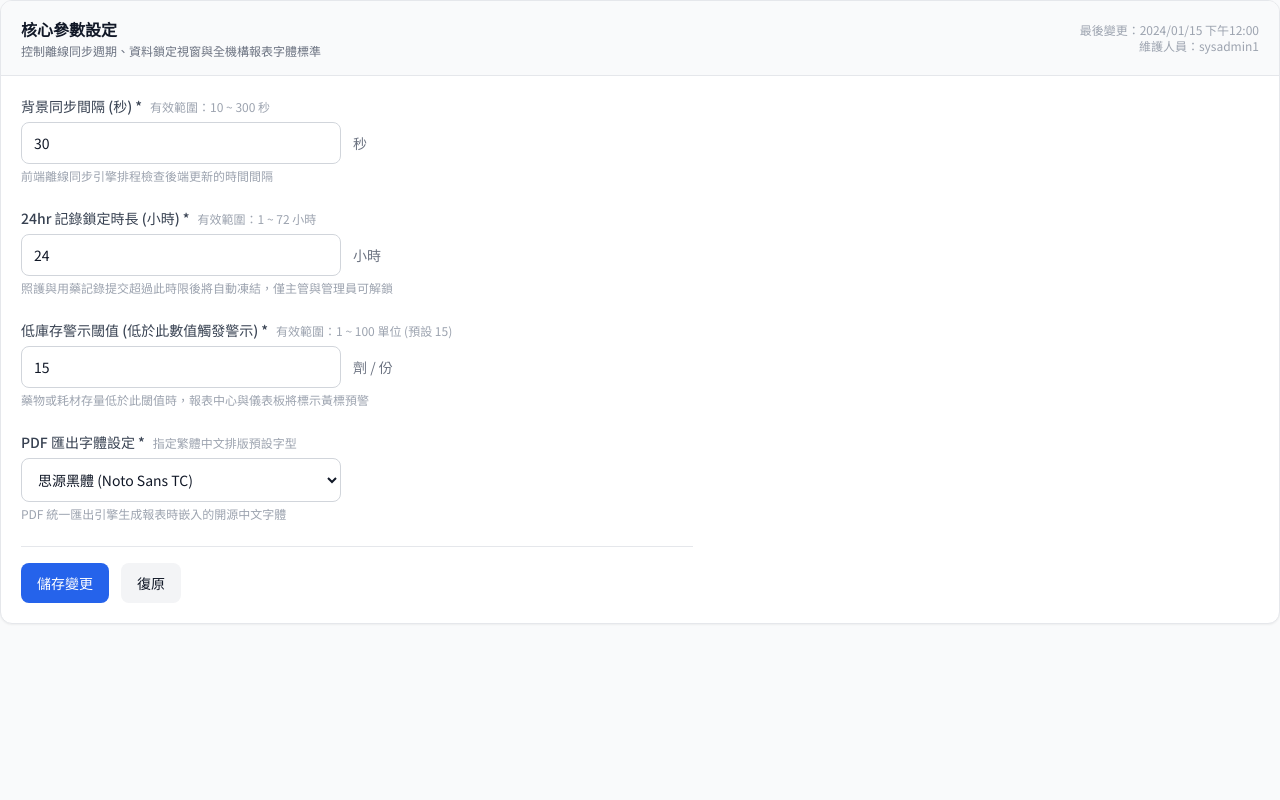
Test: System Settings Form View (Feature F11) › submits valid form to PATCH /api/v1/system/settings and displays success alert
This screenshot has width=1280, height=800.
Replace the text in the number field named "背景同步間隔" with "60": x=181, y=143 x1=21 y1=122 x2=341 y2=164
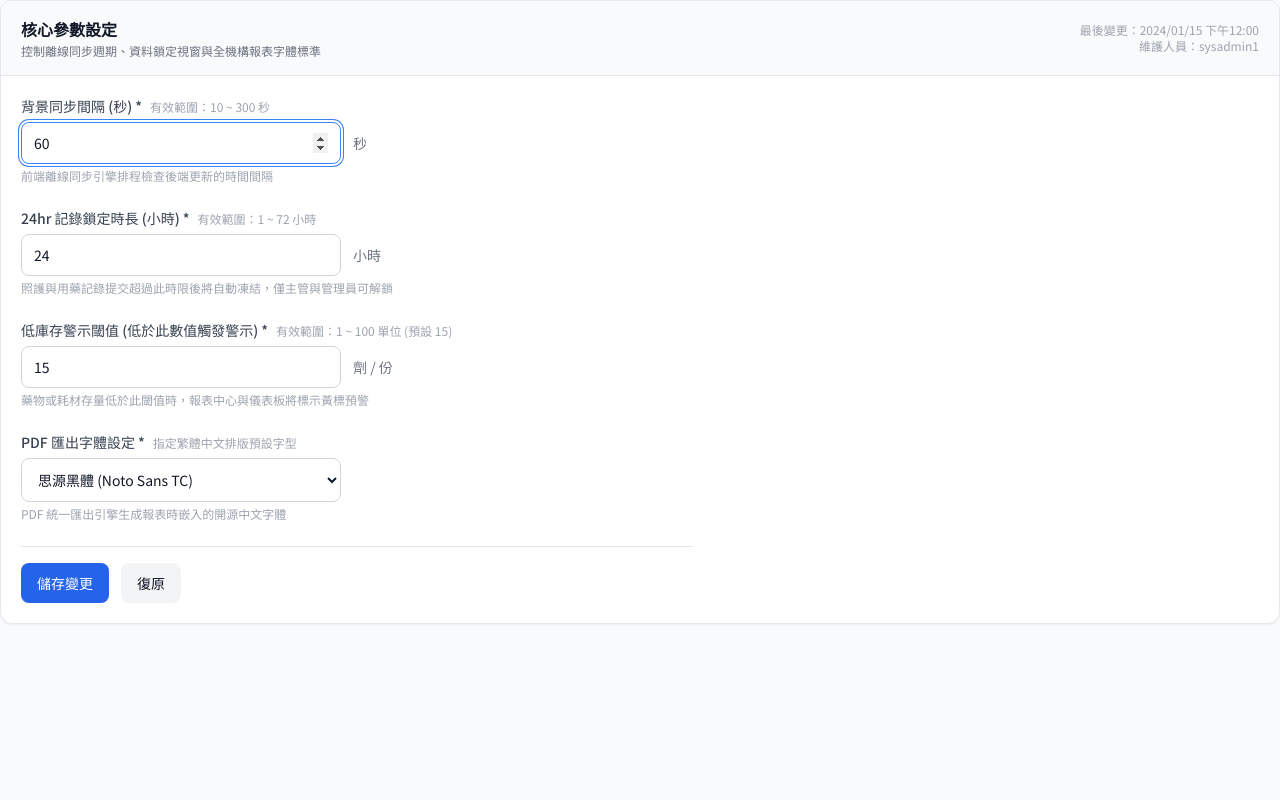
Replace the text in the number field named "低庫存警示閾值" with "20": x=181, y=367 x1=21 y1=346 x2=341 y2=388
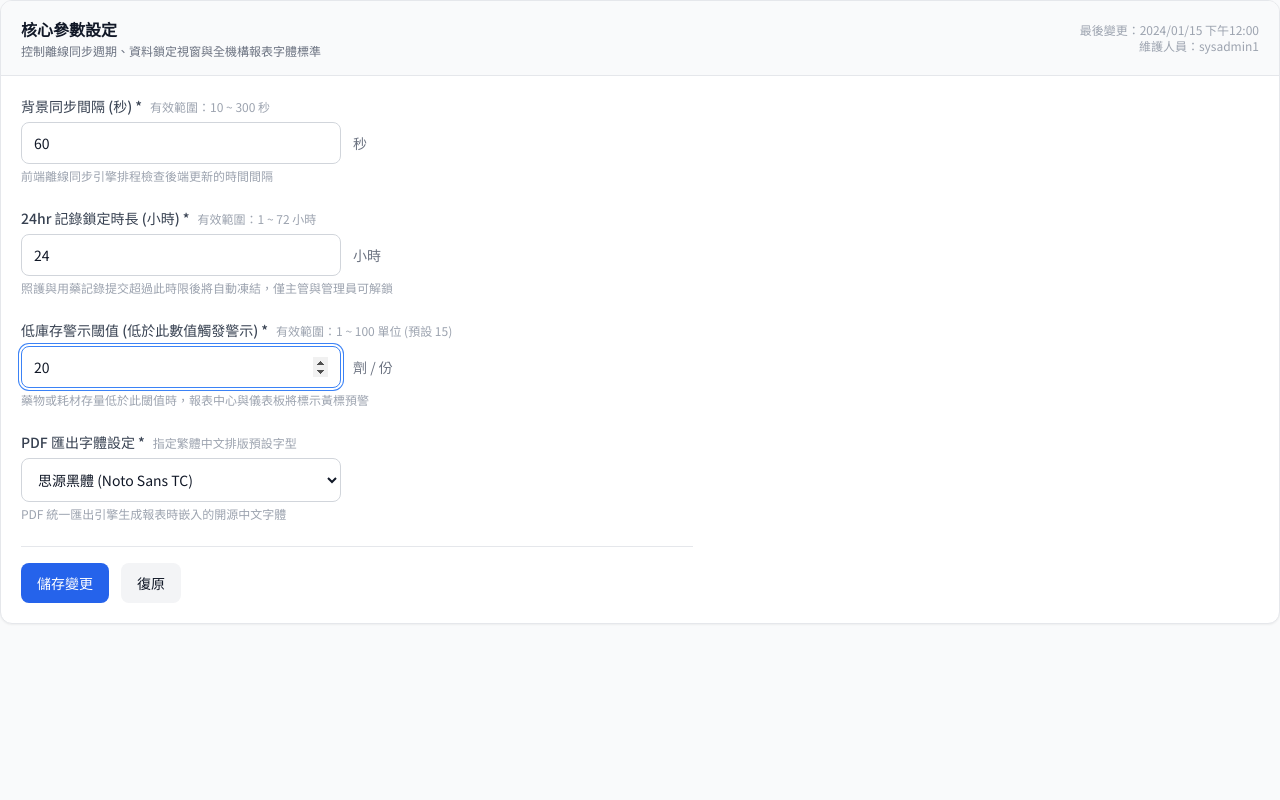
Select "蘋方繁體 (PingFang TC)" in the dropdown named "PDF 字體設定": x=181, y=480 x1=21 y1=458 x2=341 y2=502
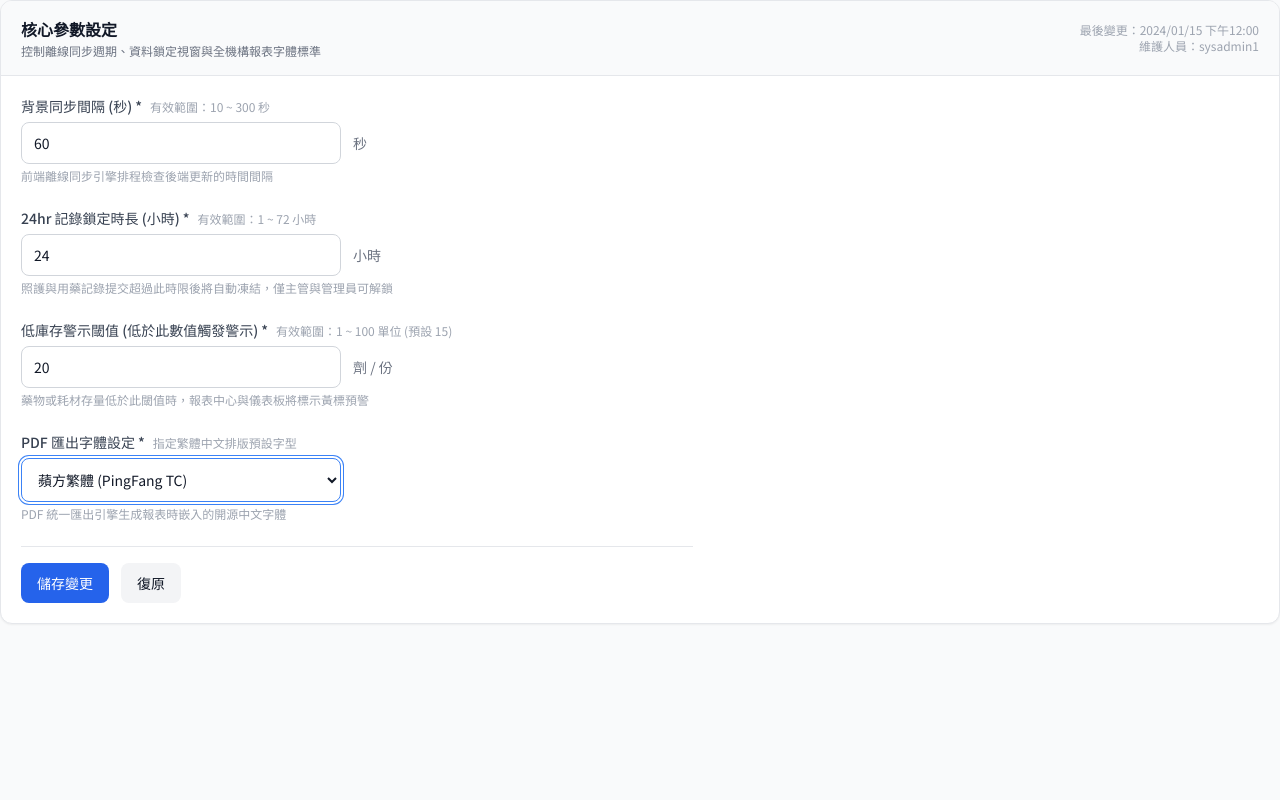
Click the button with aria-label "儲存設定": x=65, y=583 x1=21 y1=563 x2=109 y2=603
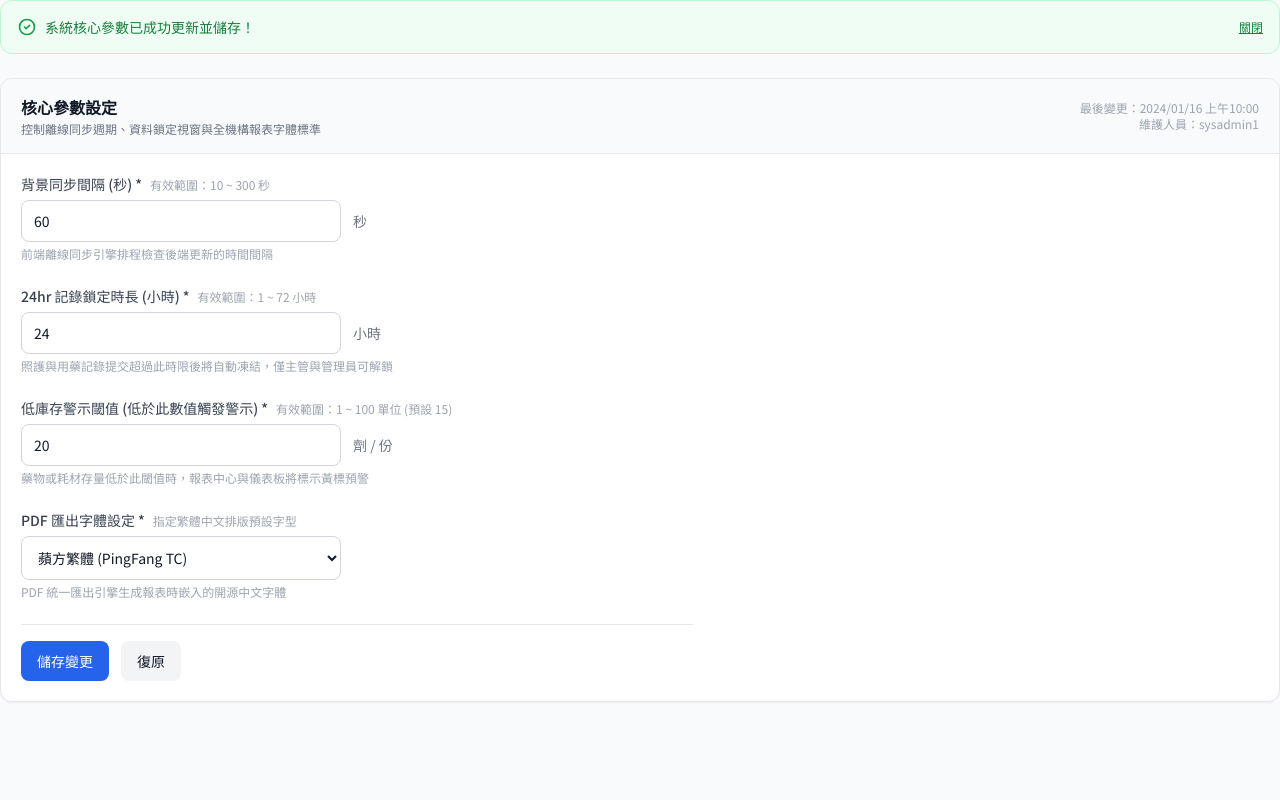
Result: the text "系統核心參數已成功更新並儲存！" is shown at x1=45 y1=17 x2=255 y2=37
